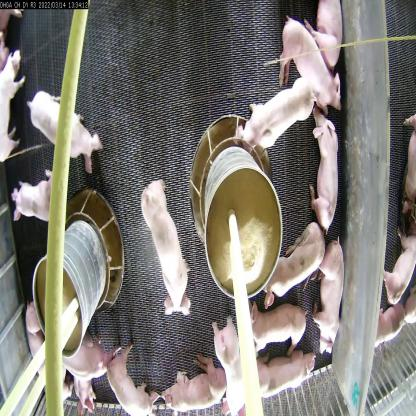Pig: (33, 76, 93, 189), (258, 202, 322, 304), (239, 69, 308, 158), (151, 176, 195, 314), (279, 25, 337, 116), (240, 340, 319, 398), (209, 320, 252, 416), (314, 240, 348, 354), (250, 304, 310, 367), (314, 109, 338, 234), (105, 344, 143, 415), (59, 328, 95, 392), (17, 158, 54, 218), (164, 371, 214, 415), (22, 306, 48, 361)
